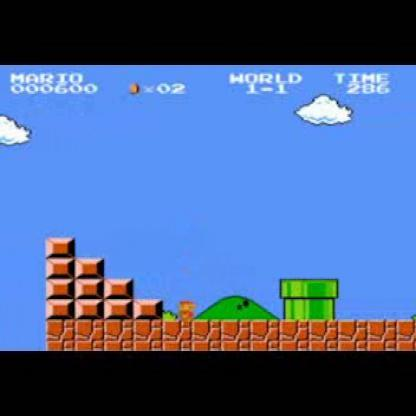Hoyo: (0, 320, 53, 349)
